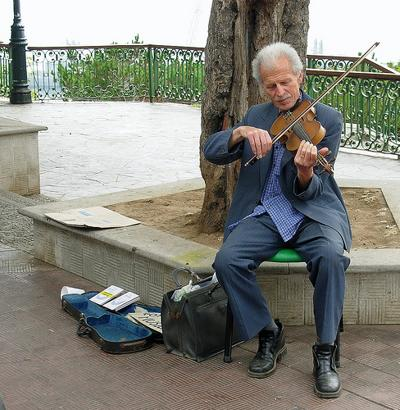person: (203, 42, 355, 399)
